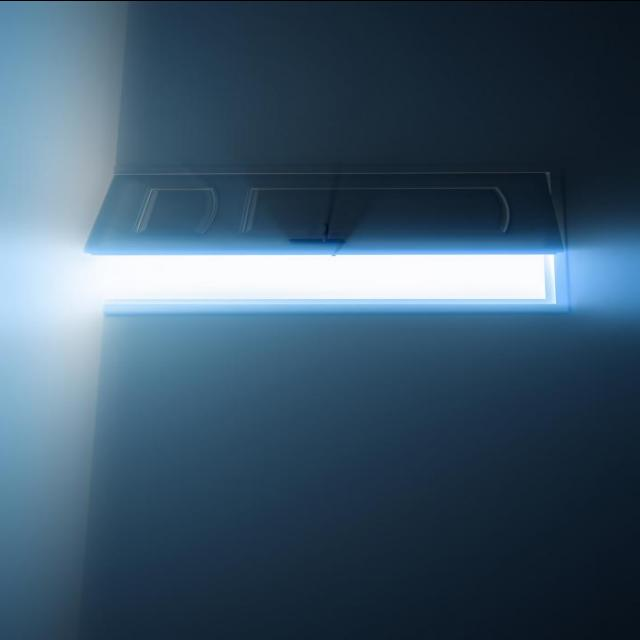open: (93, 167, 563, 307)
